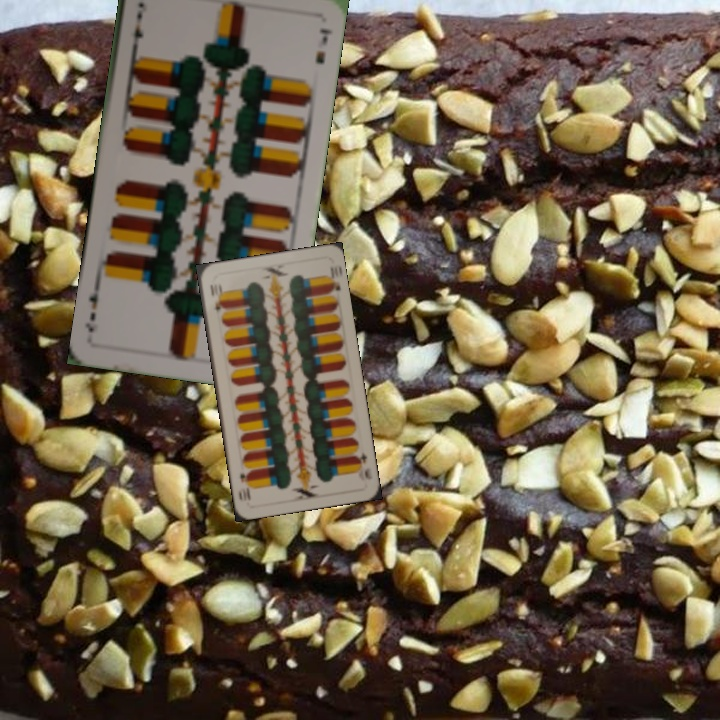E10: (351, 447, 374, 482), (206, 280, 224, 313)
E7: (127, 7, 146, 54)
